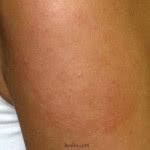Tick: (16, 0, 147, 144)
